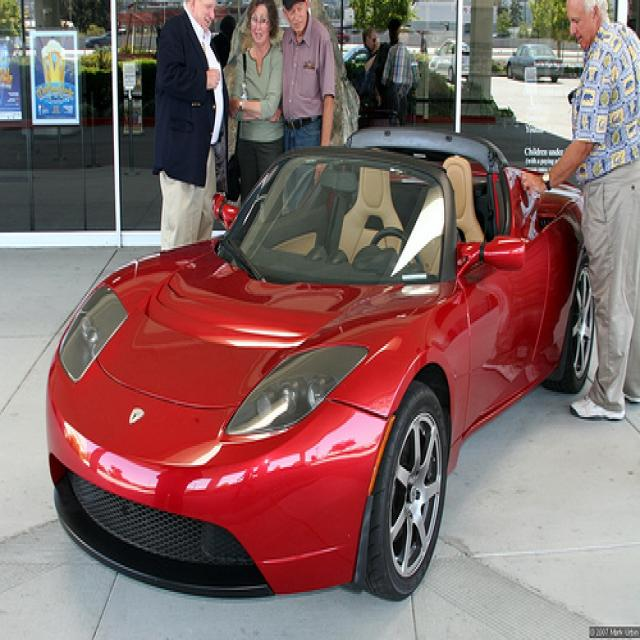Car: (48, 124, 595, 605)
